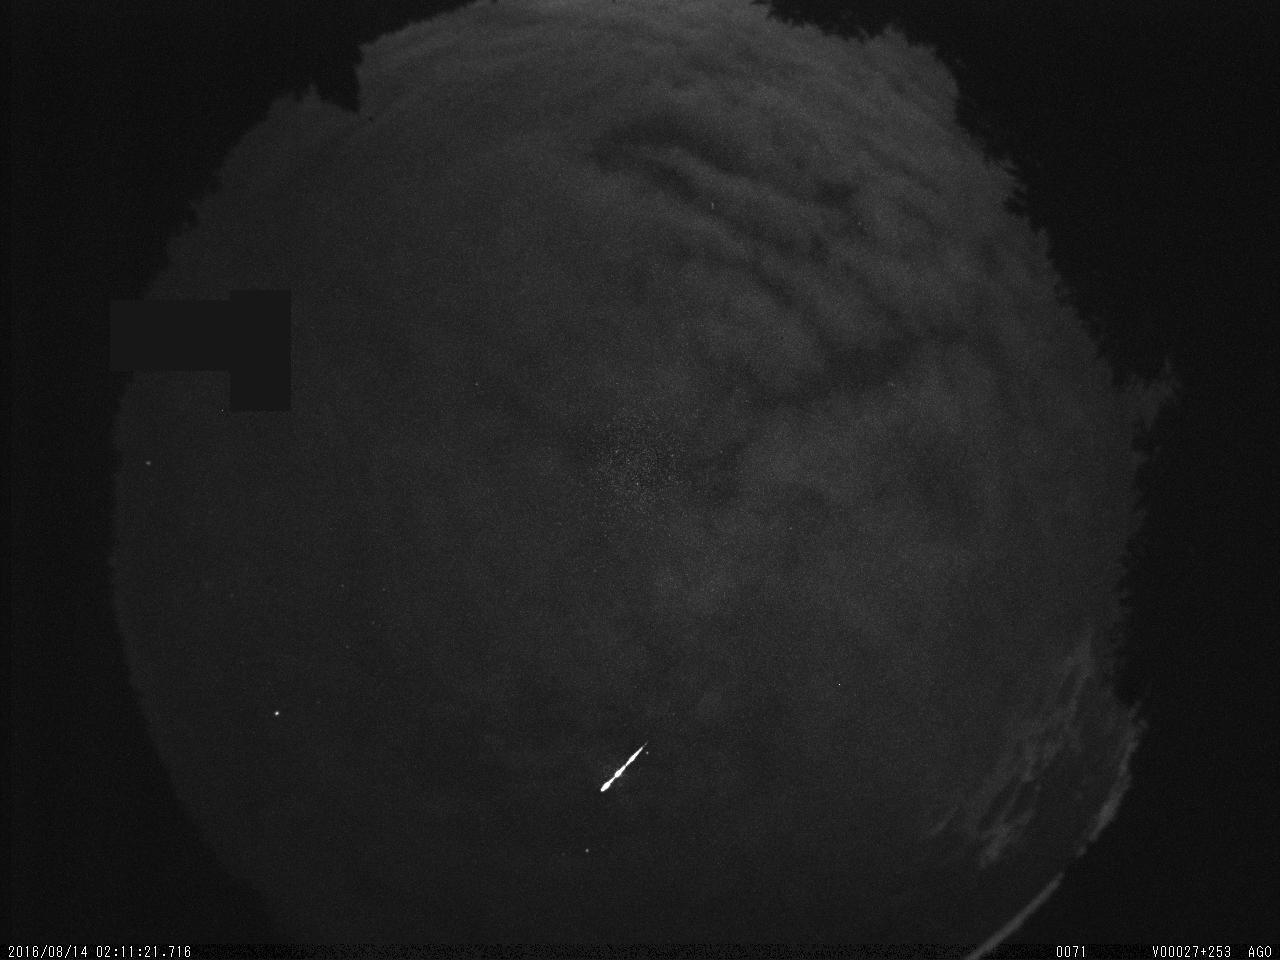meteor: (567, 731, 663, 804)
